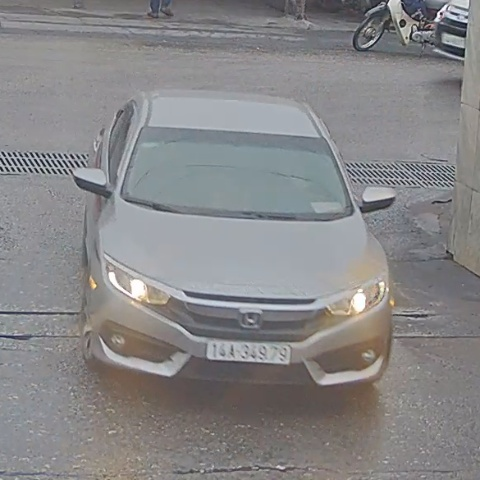vehicle plate: (196, 334, 301, 372)
